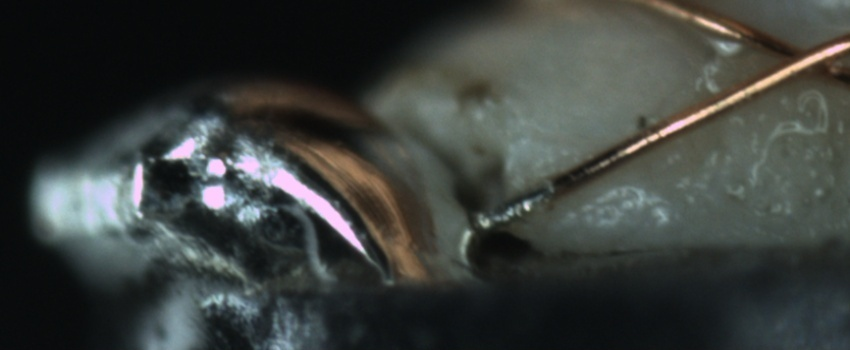CL: (750, 26, 847, 89)
TS: (470, 185, 554, 232)
